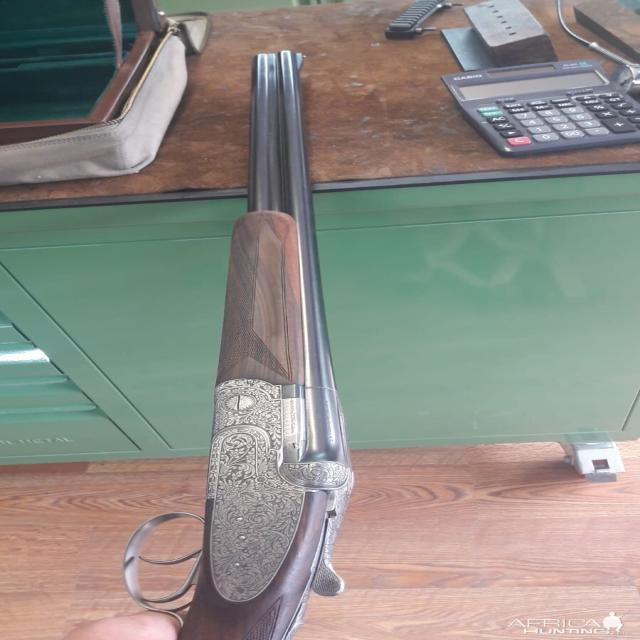ShotGun: (123, 51, 356, 640)
